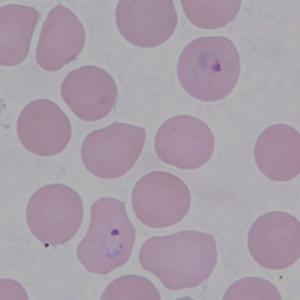Infected: (76, 197, 136, 274), (176, 36, 239, 100)
Uninfected: (139, 228, 217, 290), (25, 184, 84, 247), (81, 122, 145, 180), (131, 171, 191, 228), (34, 4, 84, 71), (16, 98, 72, 157), (155, 115, 214, 170), (61, 65, 117, 120), (248, 211, 300, 270), (115, 0, 177, 47), (255, 124, 300, 181), (0, 4, 40, 68)
